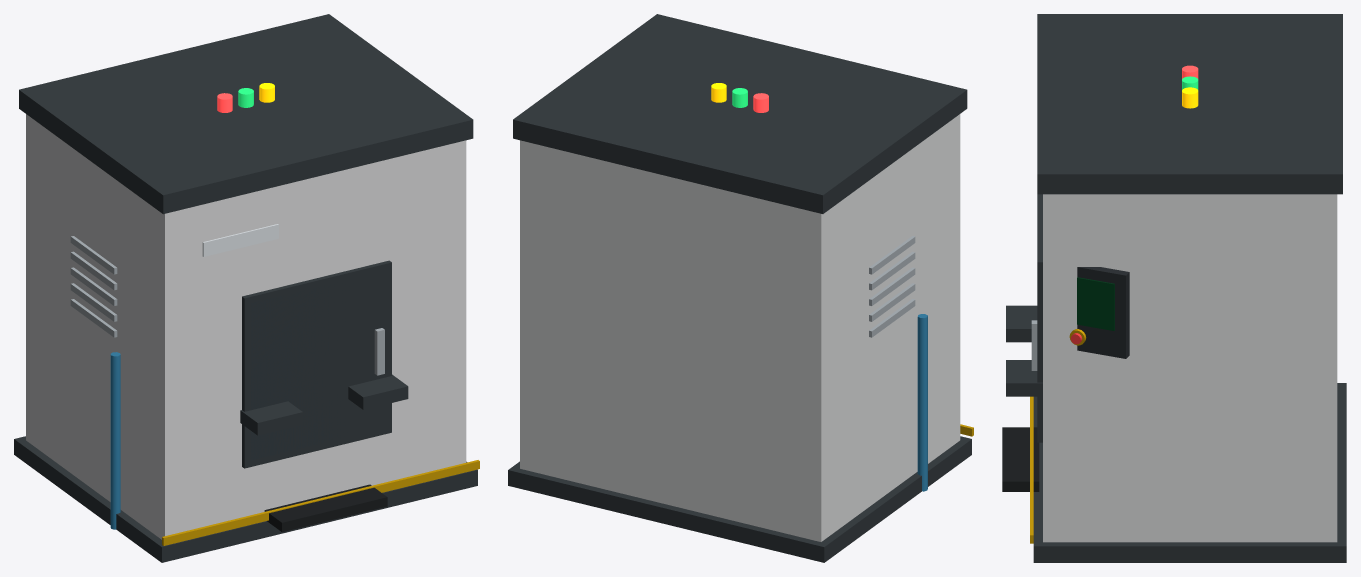
The picture shows the model from 3 angles, left to right: view 1: azimuth 30°, elevation 25°; view 2: azimuth 150°, elevation 25°; view 3: azimuth 270°, elevation 25°; orthographic projection. The views are drawn at different scales.
Visible parts, largest first — view 1: machine:body, machine:roof, door:frame, machine:plinth, door:loading, machine:chip-tray, marking:warning-stripe, machine:coolant-return, machine:way-cover-left, machine:way-cover-right, label:equipment; view 2: machine:body, machine:roof, machine:plinth, machine:coolant-return; view 3: machine:body, machine:roof, machine:plinth, panel:body, machine:chip-tray, signal:panel-screen, door:frame, machine:way-cover-right, machine:way-cover-left, marking:warning-stripe.
Boxes of the visible parts, bbox=[...] form: machine:body: bbox=[26, 114, 466, 539]; machine:roof: bbox=[19, 14, 473, 214]; door:frame: bbox=[242, 260, 391, 468]; machine:plinth: bbox=[14, 436, 477, 562]; door:loading: bbox=[251, 286, 343, 460]; machine:chip-tray: bbox=[264, 484, 387, 532]; marking:warning-stripe: bbox=[162, 460, 479, 545]; machine:coolant-return: bbox=[110, 352, 120, 529]; machine:way-cover-left: bbox=[240, 401, 302, 435]; machine:way-cover-right: bbox=[348, 374, 408, 409]; label:equipment: bbox=[202, 224, 278, 256]; machine:body: bbox=[520, 114, 960, 541]; machine:roof: bbox=[513, 14, 967, 213]; machine:plinth: bbox=[508, 436, 971, 562]; machine:coolant-return: bbox=[917, 314, 927, 491]; machine:body: bbox=[1043, 194, 1337, 542]; machine:roof: bbox=[1037, 14, 1342, 194]; machine:plinth: bbox=[1033, 383, 1346, 562]; panel:body: bbox=[1077, 267, 1129, 358]; machine:chip-tray: bbox=[1002, 427, 1039, 491]; signal:panel-screen: bbox=[1077, 277, 1114, 330]; door:frame: bbox=[1037, 194, 1042, 442]; machine:way-cover-right: bbox=[1006, 360, 1042, 396]; machine:way-cover-left: bbox=[1006, 305, 1037, 342]; marking:warning-stripe: bbox=[1030, 396, 1033, 543].
Bounding box in the file's own units: 2.18 × 2.41 × 1.87.
